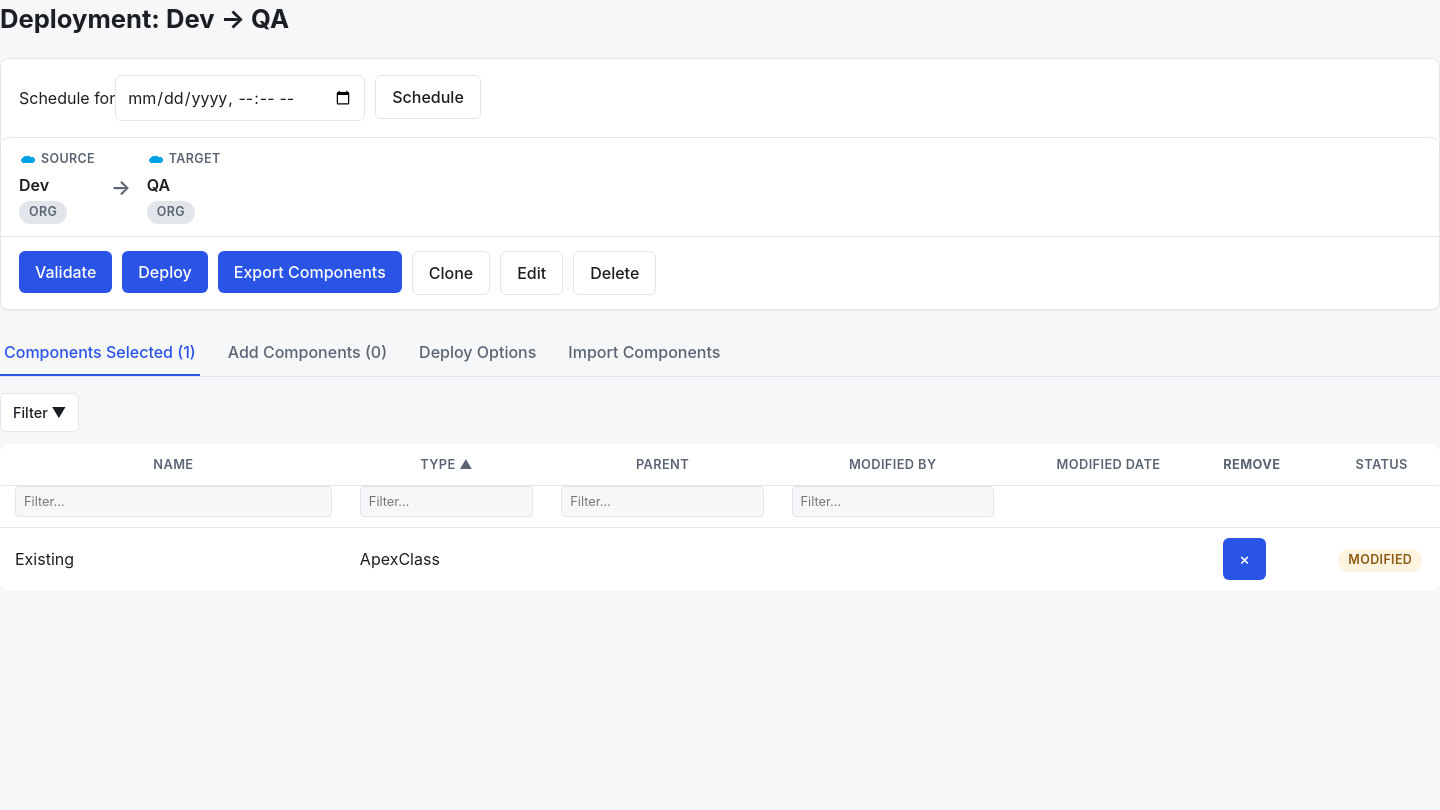
it: DeploymentDetailPage — reopening a pending draft › re-opens a draft with existing components, showing the Selected tab instantly from the draft's own saved data — no diff fetch needed
Expected: the button named "remove existing" is shown, [1223, 538, 1266, 580]
Click the tab "Add Components (0)" at x=307, y=353, box [224, 330, 391, 376]
(page scrolled)
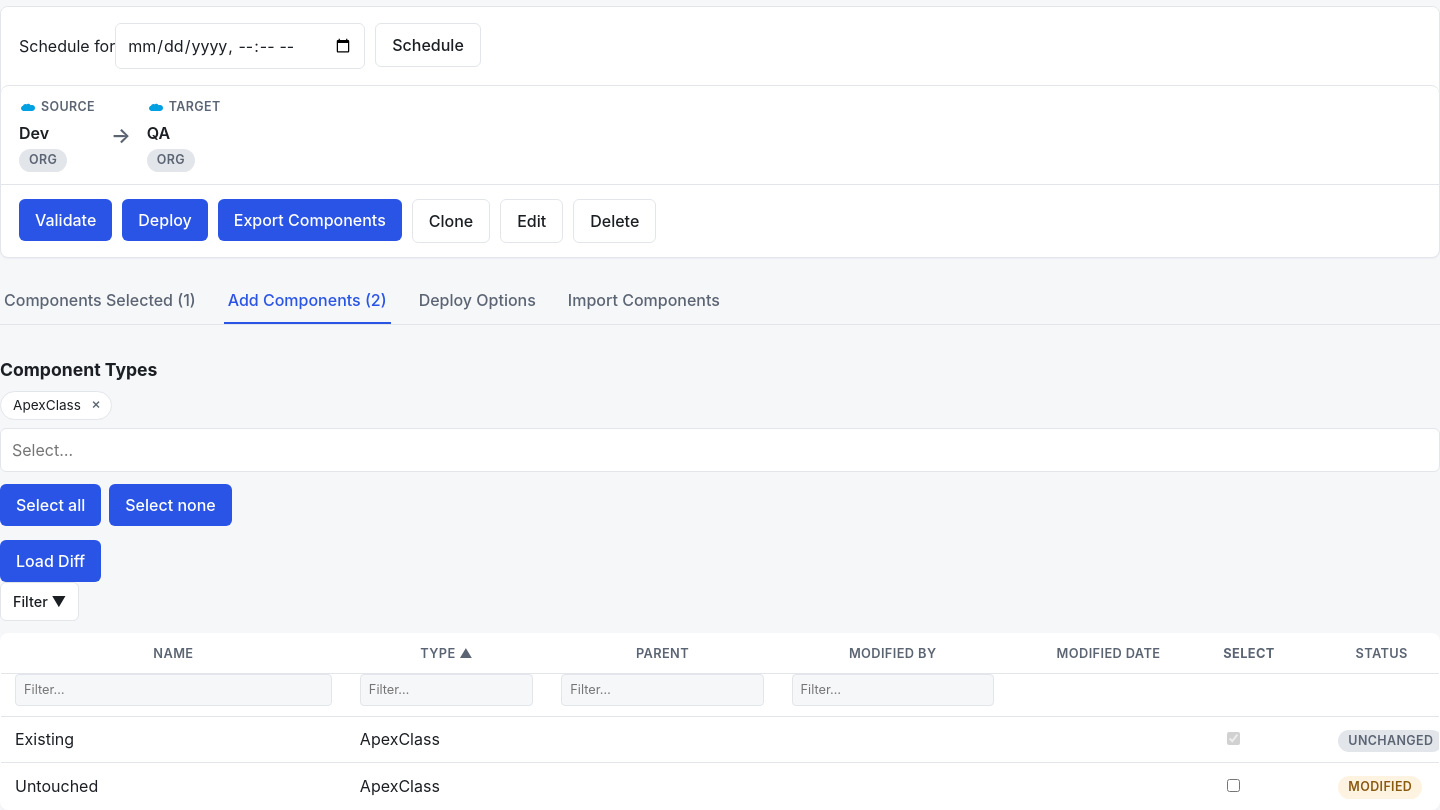
Expected: the checkbox named "Untouched" is not checked, [1227, 779, 1240, 792]
Result: the button named "remove apexclass" is shown at [87, 395, 105, 413]
Result: the checkbox named "Existing" is checked at [1227, 732, 1240, 746]
